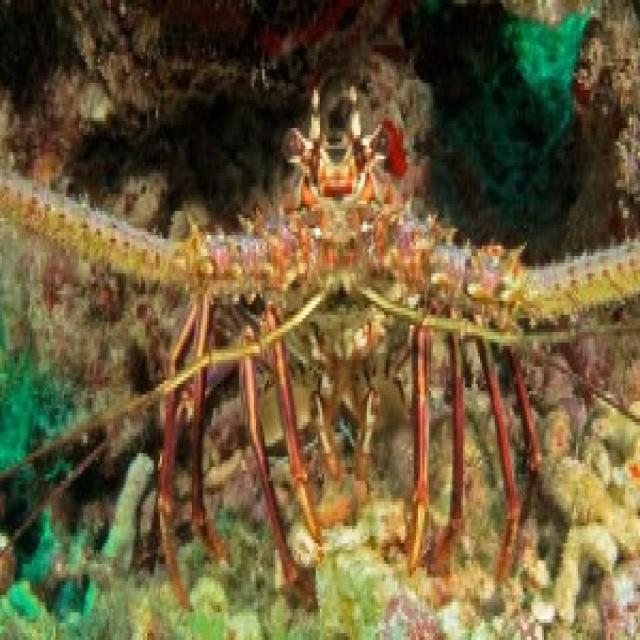lobsters: (14, 38, 640, 600)
